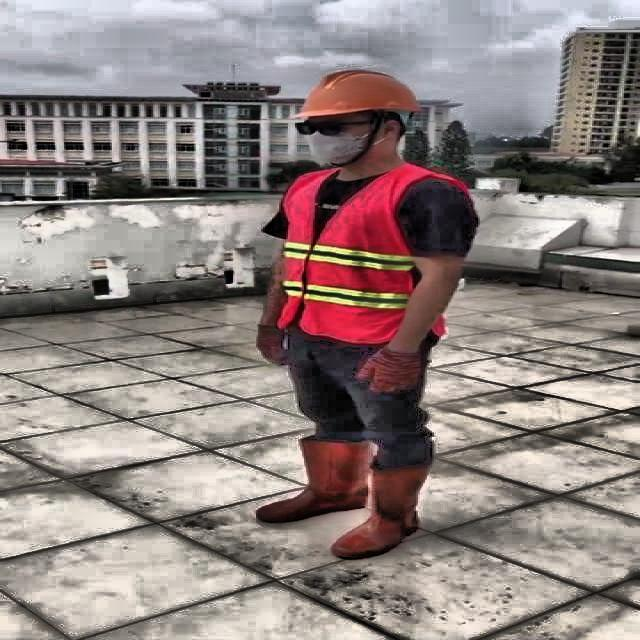safety_helmet: (296, 66, 423, 118)
safety_jacket: (277, 166, 450, 343)
